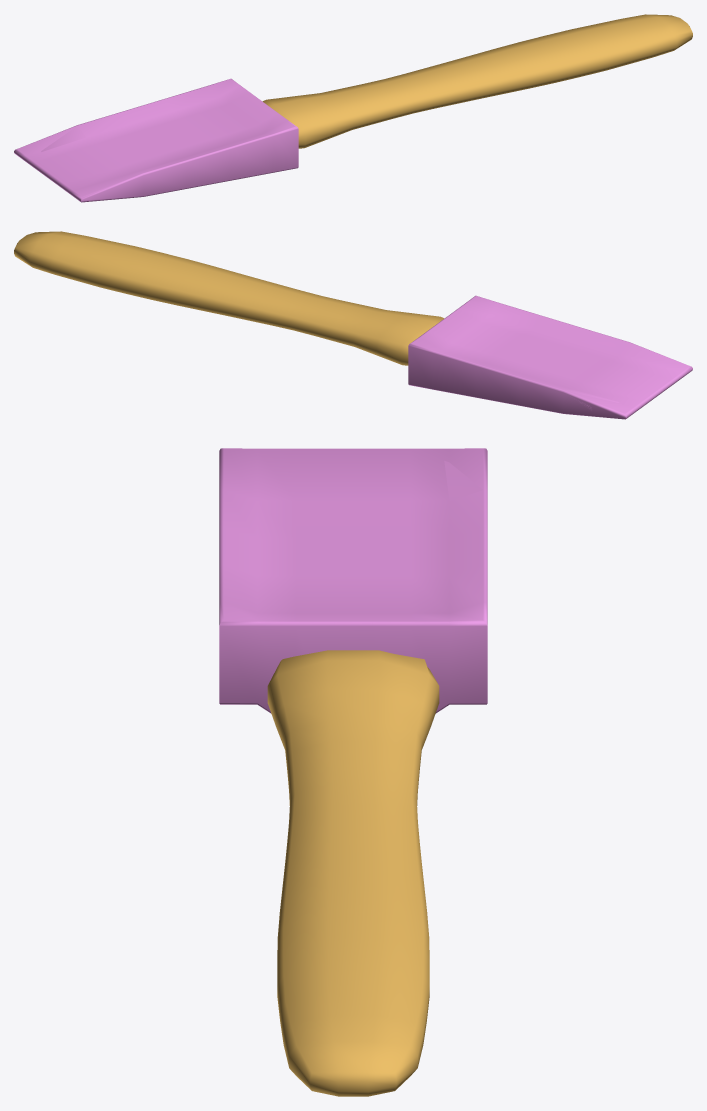
Rendered from spatula.fbx.
The picture shows the model from 3 angles, top to bottom: view 1: azimuth 30°, elevation 25°; view 2: azimuth 150°, elevation 25°; view 3: azimuth 270°, elevation 25°; orthographic projection. The views are drawn at different scales.
Parts seen in each view (by area): view 1: spatula, spatula_2; view 2: spatula, spatula_2; view 3: spatula.
Boxes of the visible parts, <box> form: spatula: <box>14,14,692,202</box>; spatula_2: <box>41,126,85,151</box>; spatula: <box>14,231,692,419</box>; spatula_2: <box>563,389,619,412</box>; spatula: <box>219,448,487,1096</box>.
Bounding box in the file's own units: 371 × 30.18 × 67.5.
